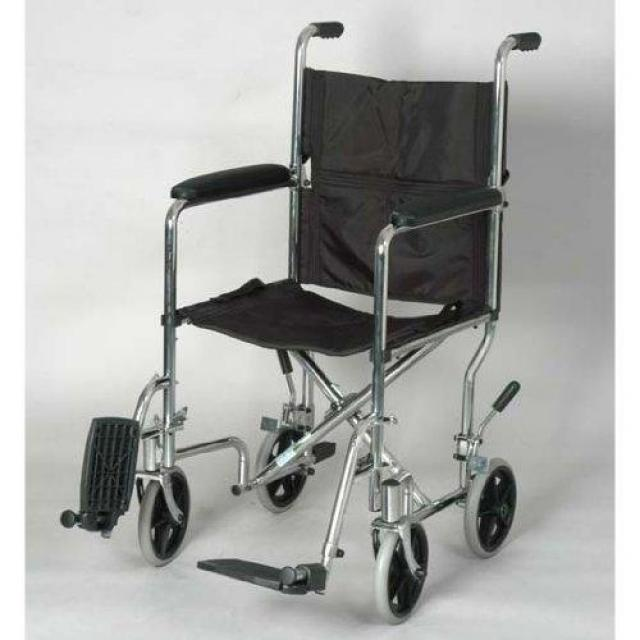wheelchair: (59, 0, 581, 640)
